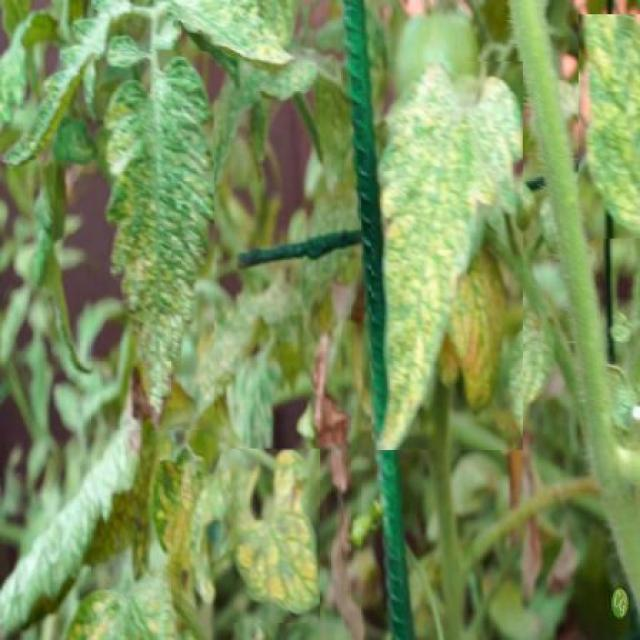Spider Mites: (371, 61, 523, 450), (100, 51, 214, 430), (231, 449, 320, 624), (578, 14, 640, 238)
